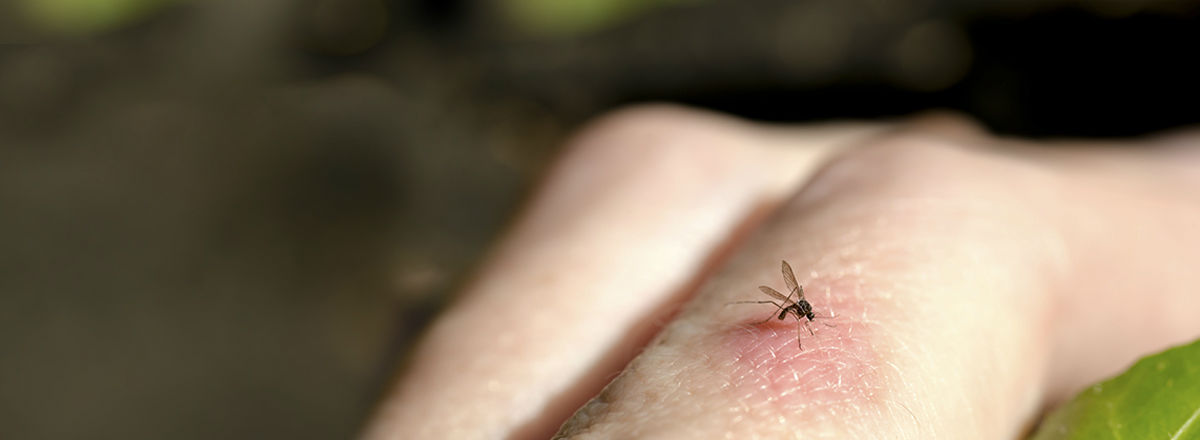dengue_mosquito: (725, 259, 830, 351)
